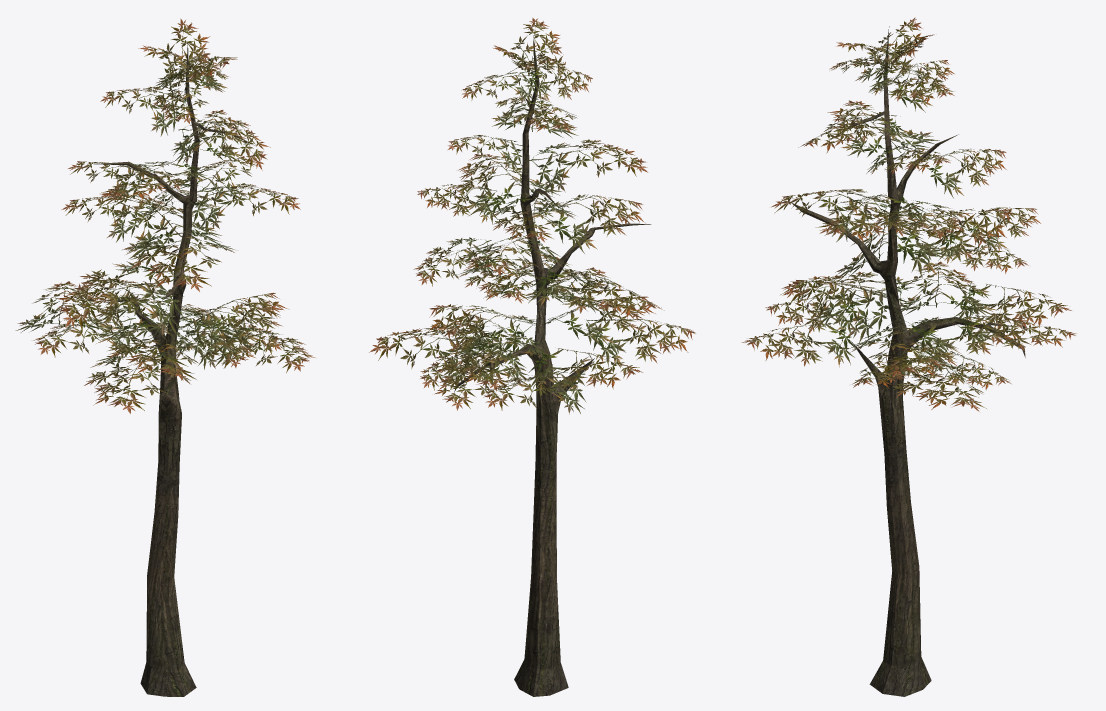
Rendered from bg_anh_tree_mapletree01d_sm_ysi.FBX.
3 renders of one model, left to right at view 1: azimuth 30°, elevation 25°; view 2: azimuth 150°, elevation 25°; view 3: azimuth 270°, elevation 25°, orthographic. The views are drawn at different scales.
Parts seen in each view (by area): view 1: bg_anh_tree_mapletree01d_sm_ysi; view 2: bg_anh_tree_mapletree01d_sm_ysi; view 3: bg_anh_tree_mapletree01d_sm_ysi.
Boxes of the visible parts, x1,y1,x2,y2 form: bg_anh_tree_mapletree01d_sm_ysi: (15,18,315,696); bg_anh_tree_mapletree01d_sm_ysi: (369,17,695,696); bg_anh_tree_mapletree01d_sm_ysi: (741,17,1076,696).
Bounding box in the file's own units: 218 × 492 × 240.
